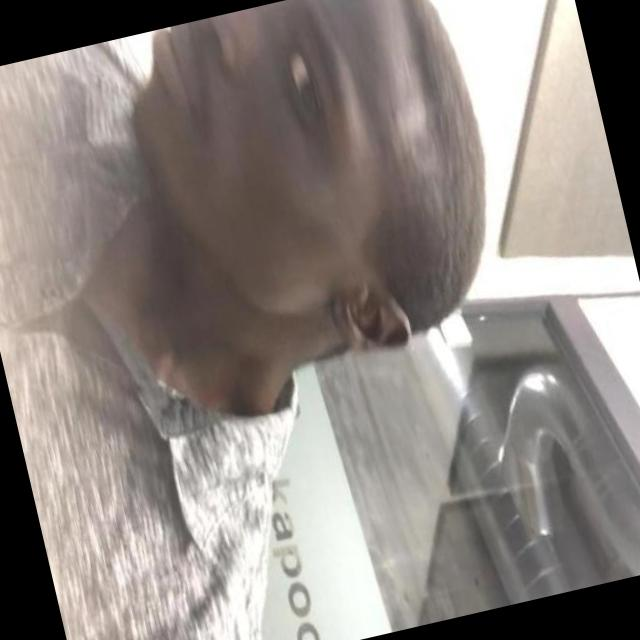bareface: (132, 0, 529, 390)
